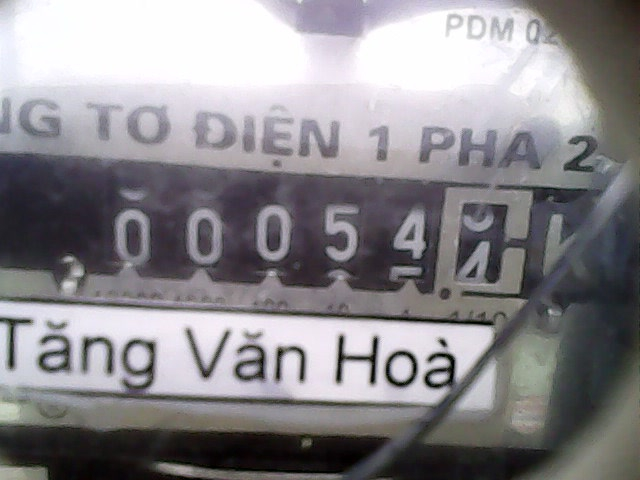phy_plate: (95, 161, 530, 304)
